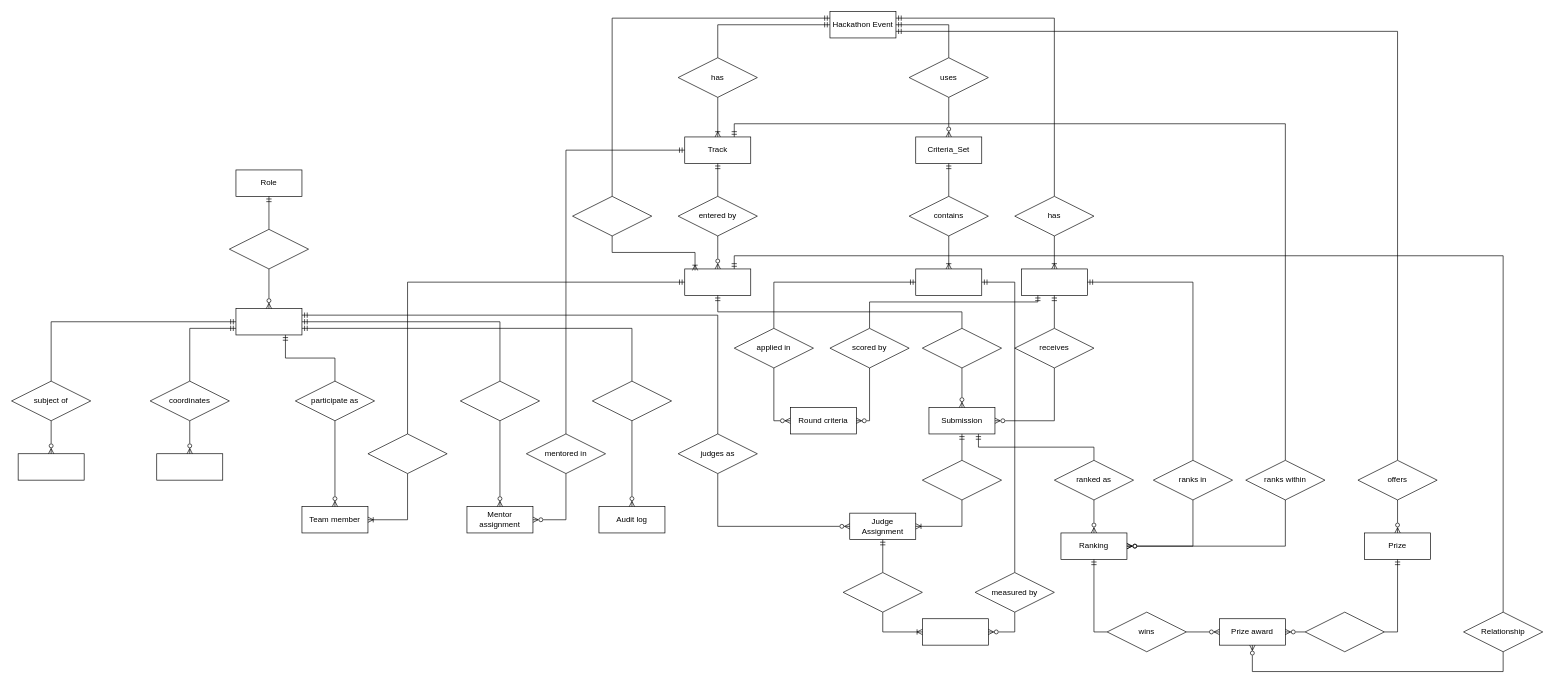
The diagram is 1554 pixels wide and 688 high, and some of its shapes have lost their labels. The shapes that lost their labels are listed below. From the top down, each one's centre as x and y in pixels, then its label:
point 612,216: hosts
point 269,249: classifies
point 717,281: Team
point 948,281: Scoring_Criteria
point 1054,281: Round
point 268,321: User
point 962,348: makes
point 500,400: mentors as
point 632,400: performs
point 50,466: Account approval
point 189,466: Event
point 407,453: includes
point 962,480: evaluated via
point 882,592: produced
point 955,631: Score
point 1344,631: awarded as
